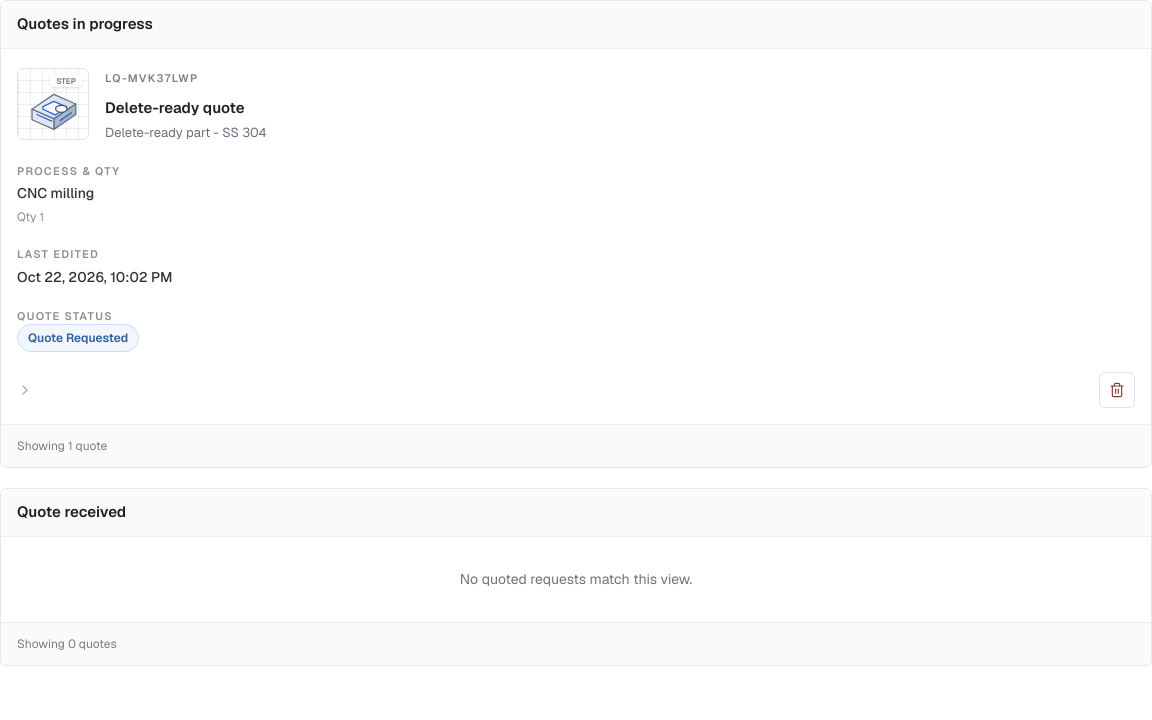
Test: BuyerQuotes › lets buyers delete a saved quote row from the table
The width and height of the screenshot is (1152, 720).
Click the button named "Delete quote for Delete-ready quote": (1117, 390) [1099,372,1135,408]
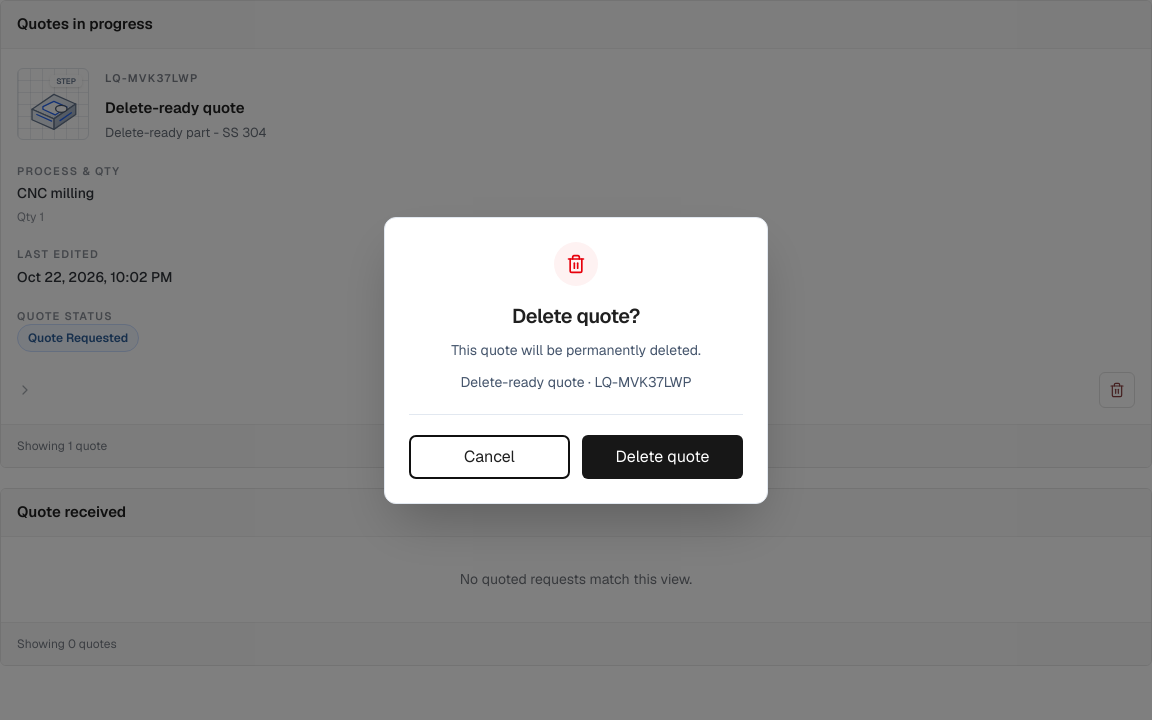
Expected: the dialog "Delete quote?" is shown, [384,216,768,504]
Click the button "Delete quote": (662, 456) [582,434,743,478]
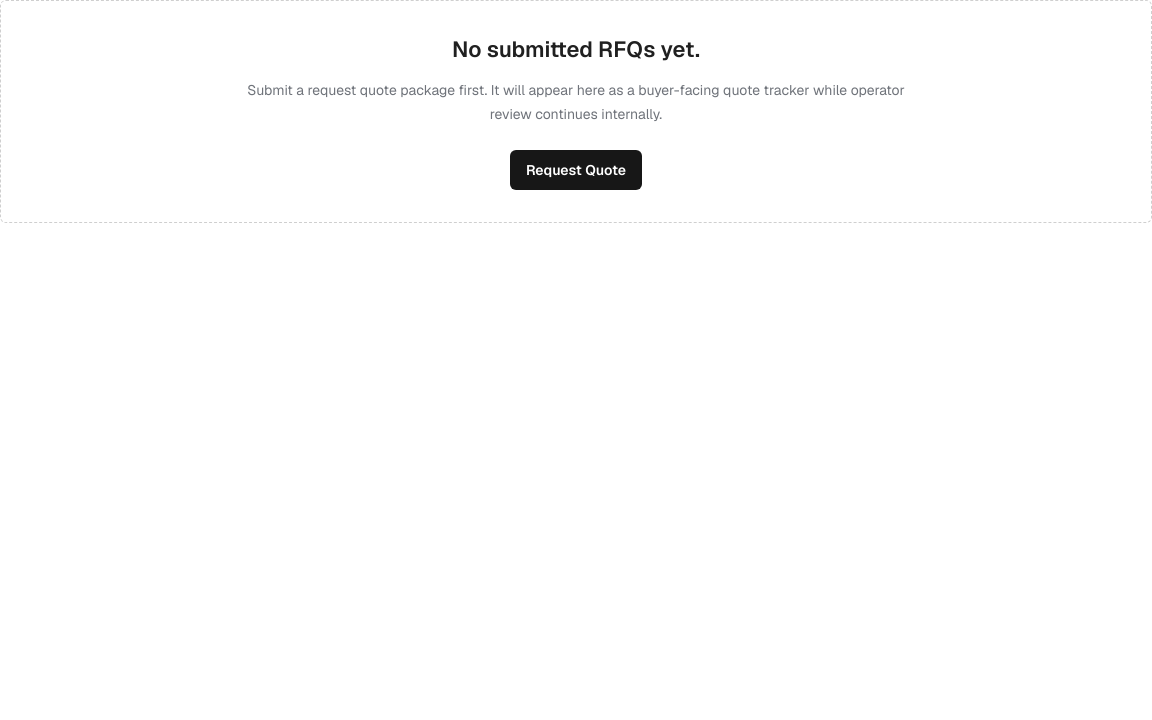
Expected: the link "Delete-ready quote" is gone
